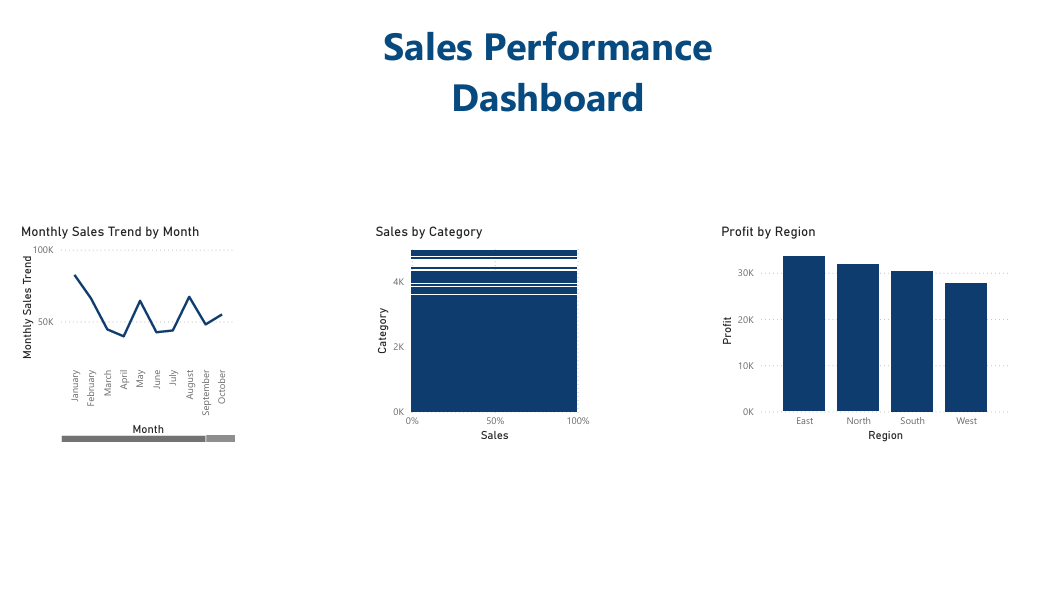

Layout of this report page (visuals, bound fields, positions):
{"tool":"powerbi","page":{"name":"Page 2","canvas":[1280,720],"ordinal":1},"visuals":[{"type":"lineClusteredColumnComboChart","fields":{"Category":["sales_dashboard sales_data.order_date.Variation.Date Hierarchy.Month"],"Y2":["Sum(sales_dashboard sales_data.sales)"]},"box":[0,263.4,279.9,279.9],"z":0},{"type":"hundredPercentStackedBarChart","fields":{"Y":["Count(sales_dashboard sales_data.category)"],"Category":["sales_dashboard sales_data.sales"]},"box":[447.2,263.4,279.9,279.9],"z":1000},{"type":"lineStackedColumnComboChart","fields":{"Category":["sales_dashboard sales_data.region"],"Y":["Sum(sales_dashboard sales_data.profit)"]},"box":[882.9,263.4,374.4,279.9],"z":2000},{"type":"textbox","box":[338,0,663,174],"z":2001}]}

Visuals, with their boxes in screenshot pixels (x1, y1, x2, y2), scaled from the page's 1280x720 canvas onto the 1047x599 screenshot:
lineClusteredColumnComboChart - sales_dashboard sales_data.order_date.Variation.Date Hierarchy.Month x Sum(sales_dashboard sales_data.sales): bbox(0, 219, 229, 452)
hundredPercentStackedBarChart - Count(sales_dashboard sales_data.category) x sales_dashboard sales_data.sales: bbox(366, 219, 595, 452)
lineStackedColumnComboChart - sales_dashboard sales_data.region x Sum(sales_dashboard sales_data.profit): bbox(722, 219, 1028, 452)
textbox: bbox(276, 0, 819, 145)
